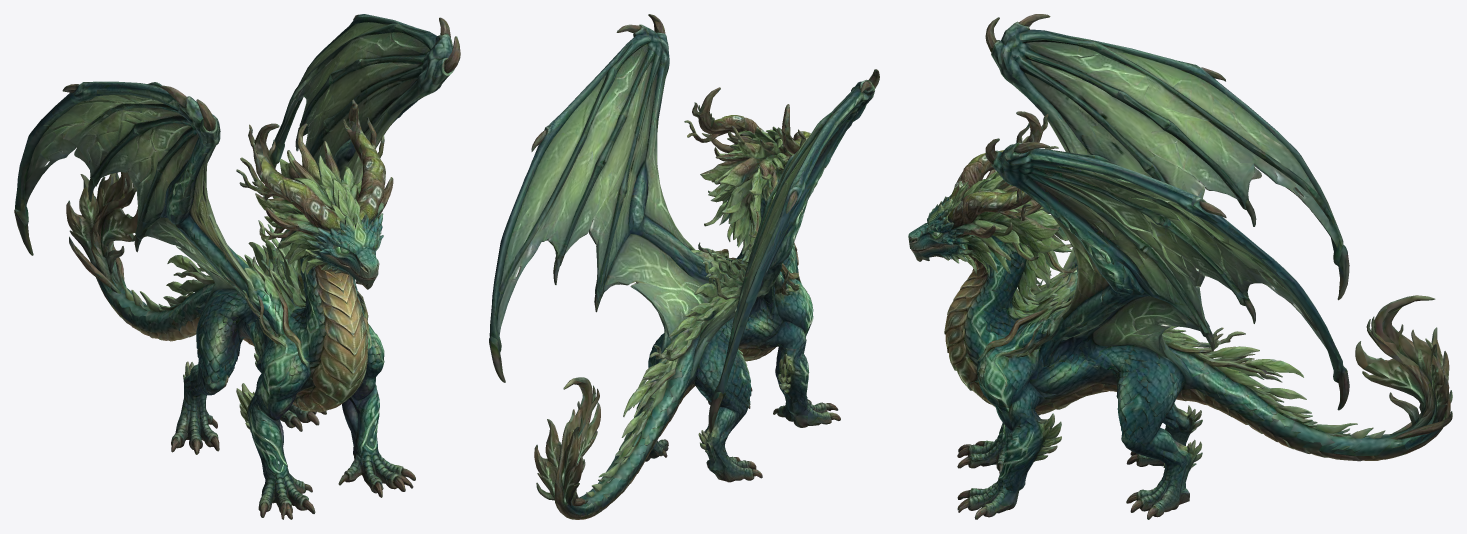
The model's file is forest_dragon_wyldheart.glb.
3 renders of one model, left to right at view 1: azimuth 30°, elevation 25°; view 2: azimuth 150°, elevation 25°; view 3: azimuth 270°, elevation 25°, orthographic. The views are drawn at different scales.
Parts seen in each view (by area): view 1: Mesh_0; view 2: Mesh_0; view 3: Mesh_0.
Boxes of the visible parts, <box> form: Mesh_0: <box>14,14,460,519</box>; Mesh_0: <box>489,14,879,519</box>; Mesh_0: <box>908,14,1452,519</box>.
Size of the model in its own units: 1.14 by 1.56 by 1.89.
1 material, 1 textured.
